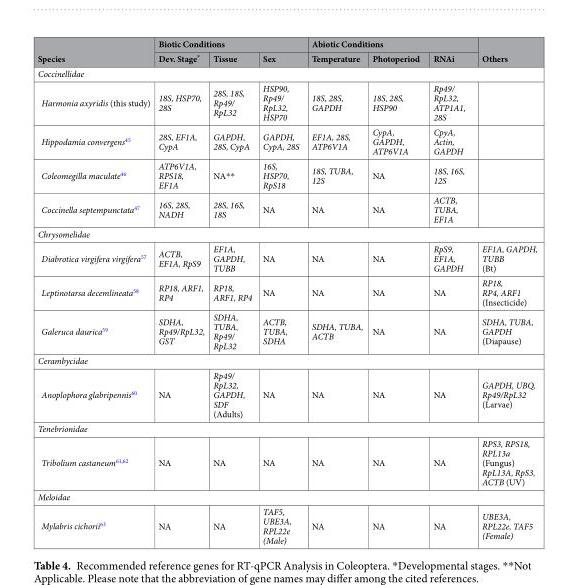table: (36, 37, 536, 545)
table column: (36, 37, 153, 545), (472, 37, 536, 545), (304, 37, 367, 545), (367, 37, 425, 545), (153, 37, 208, 545), (208, 37, 256, 545), (256, 37, 304, 545), (425, 37, 472, 545)
table column header: (36, 37, 536, 65)
table projected row header: (36, 65, 536, 80), (36, 226, 536, 241), (36, 352, 536, 367), (36, 420, 536, 435), (36, 488, 536, 503)
table row: (36, 367, 536, 420), (36, 435, 536, 488), (36, 80, 536, 124), (36, 309, 536, 352), (36, 503, 536, 545), (36, 124, 536, 158), (36, 158, 536, 192), (36, 192, 536, 226), (36, 241, 536, 275), (36, 275, 536, 309), (36, 50, 536, 65), (36, 65, 536, 80), (36, 226, 536, 241), (36, 352, 536, 367), (36, 420, 536, 435), (36, 488, 536, 503), (36, 37, 536, 50)
table spanning cell: (36, 37, 153, 65), (304, 37, 472, 50), (153, 37, 304, 50), (472, 37, 536, 65)
